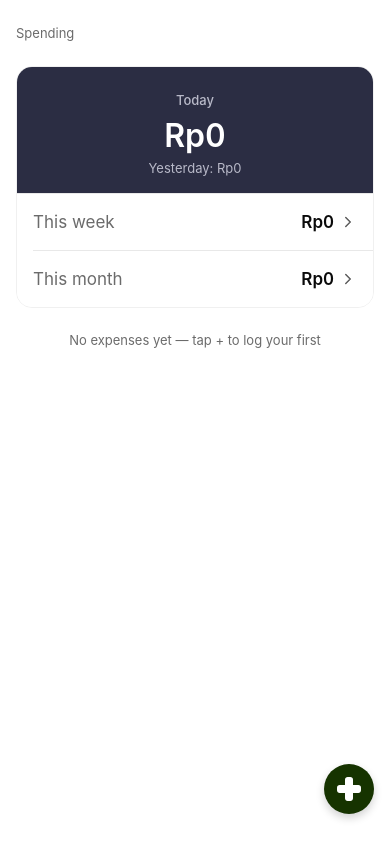
Test case: HomeScreen › opens week breakdown from list row
What coordinates should you click on to do the following:
click the button with aria-label "This week, Rp0 spent, same as last week, last week Rp0"
I would click on:
 (74, 222)
Its box is [17, 194, 373, 250].
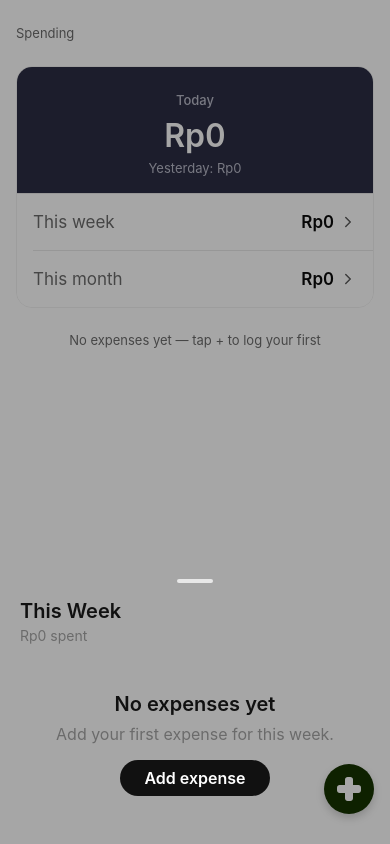
Result: the text "No expenses yet" is shown at [115, 692, 276, 716]
